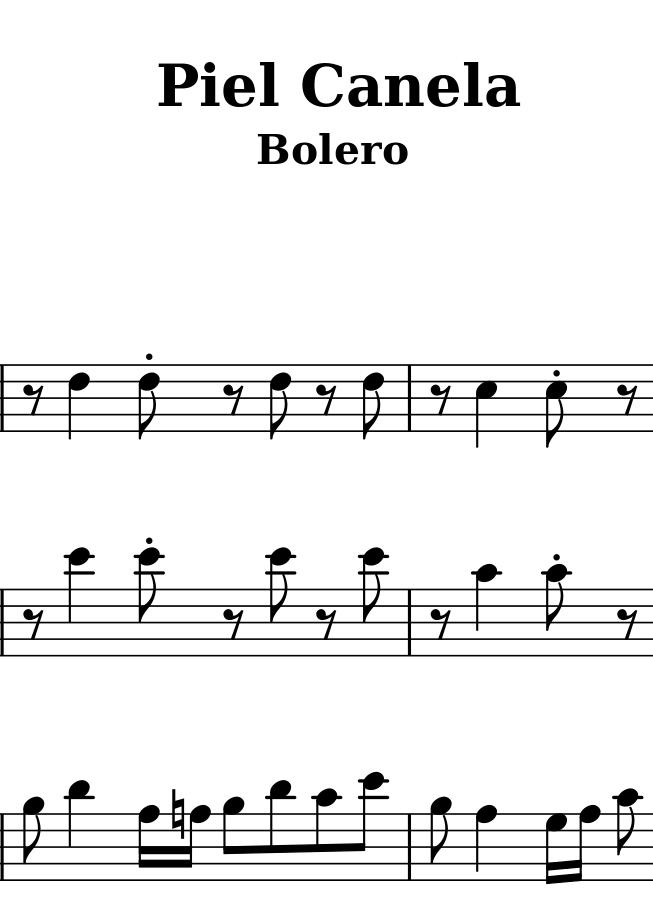16_7: (541, 812, 567, 888)
16_8: (180, 803, 212, 885), (570, 803, 601, 884), (134, 803, 161, 883)
4_10: (470, 562, 503, 657)
4_11: (65, 777, 92, 881)
4_12: (62, 545, 98, 659)
4_5: (473, 363, 497, 449)
4_6: (66, 363, 92, 441)
4_8: (472, 804, 499, 883)
8_10: (543, 563, 572, 662), (314, 785, 343, 884), (614, 783, 638, 883)
8_11: (267, 779, 295, 884)
8_12: (352, 769, 388, 881), (358, 545, 393, 659), (265, 546, 295, 661), (134, 547, 161, 662)
8_5: (543, 362, 570, 448)
8_6: (267, 360, 293, 442), (136, 363, 162, 442), (361, 363, 388, 438)
8_9: (427, 795, 455, 885), (221, 795, 246, 882), (21, 798, 45, 885)
Natural: (170, 787, 185, 839)
Rests8: (218, 606, 245, 638), (428, 382, 453, 416), (615, 606, 640, 640), (221, 381, 245, 416), (428, 606, 452, 641), (616, 382, 641, 414), (316, 382, 340, 415), (314, 606, 337, 638), (23, 381, 43, 417), (20, 607, 44, 635)
Single_barline: (402, 813, 418, 881), (401, 589, 417, 655), (401, 365, 417, 430), (1, 812, 11, 881), (1, 364, 10, 433), (1, 589, 10, 655)
